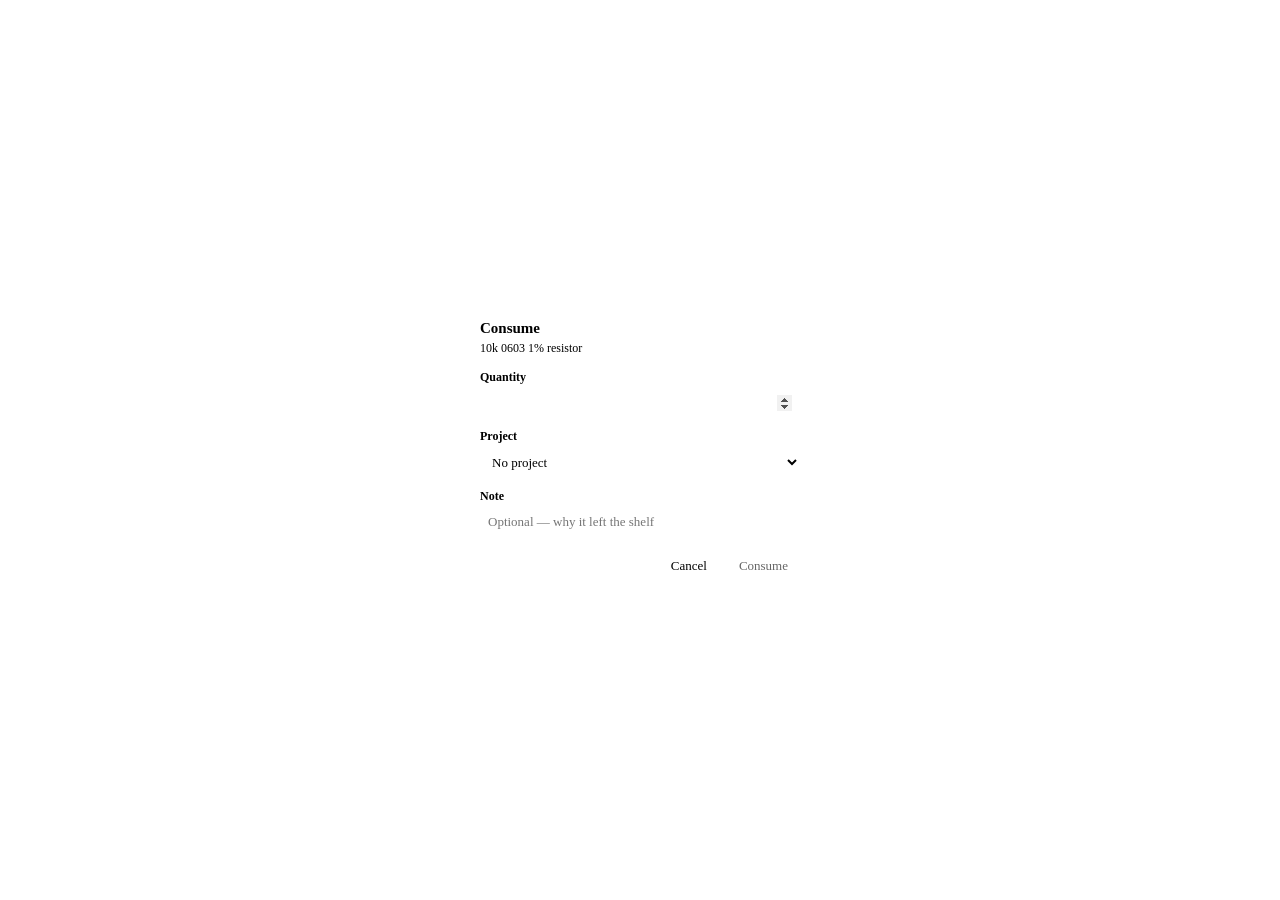
Scenario: QuickAction — continuous-unit part (real quantity_unit, not "each") › shows the preview and toast in the part's real unit ("m"), fetched via usePart
Type "2" into the number field labelled "Quantity" at (640, 403), box [480, 389, 800, 417]
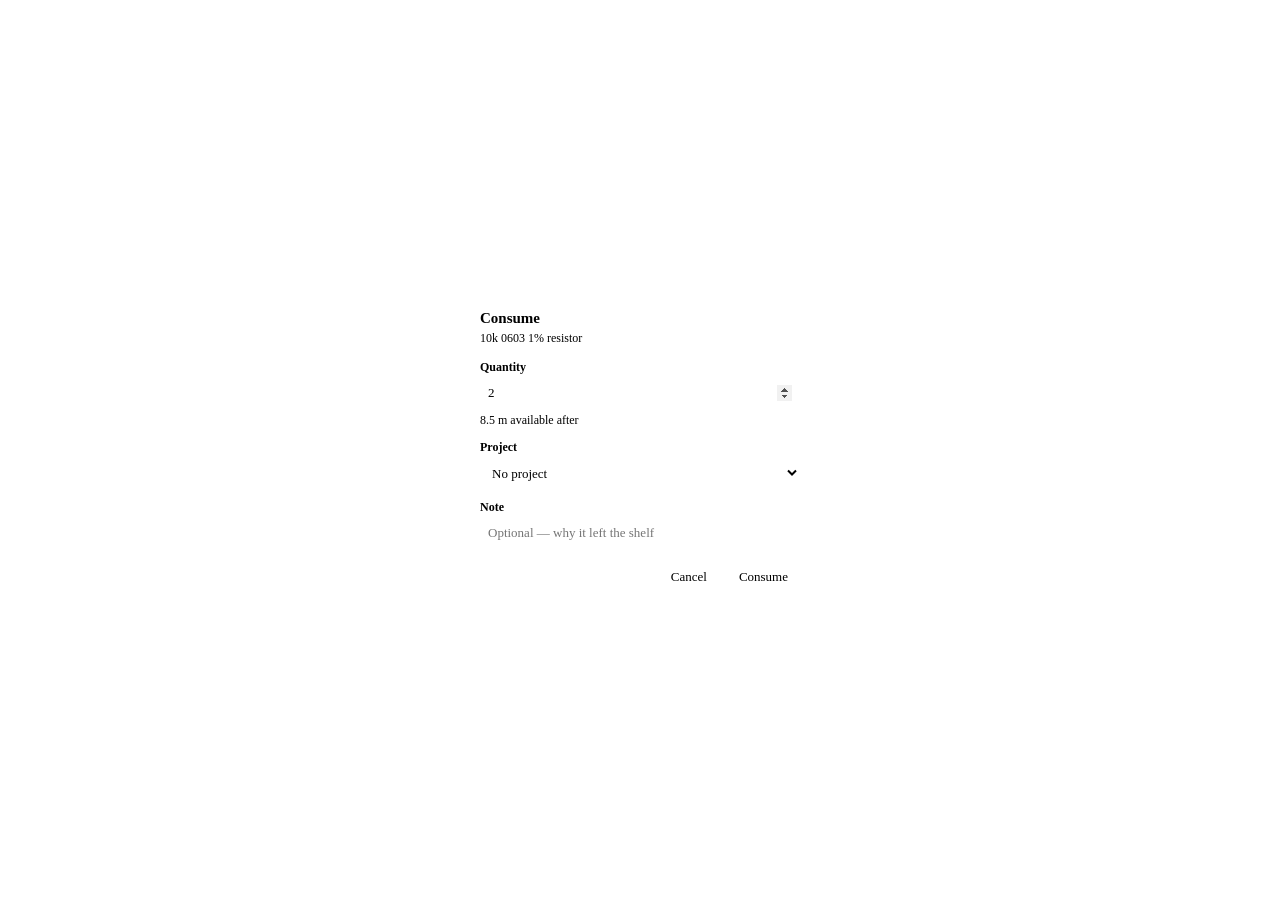
Expected: the text "8.5 m available after" is shown, [480, 412, 579, 426]
Click the button "Consume" at (763, 576), box [727, 562, 800, 590]
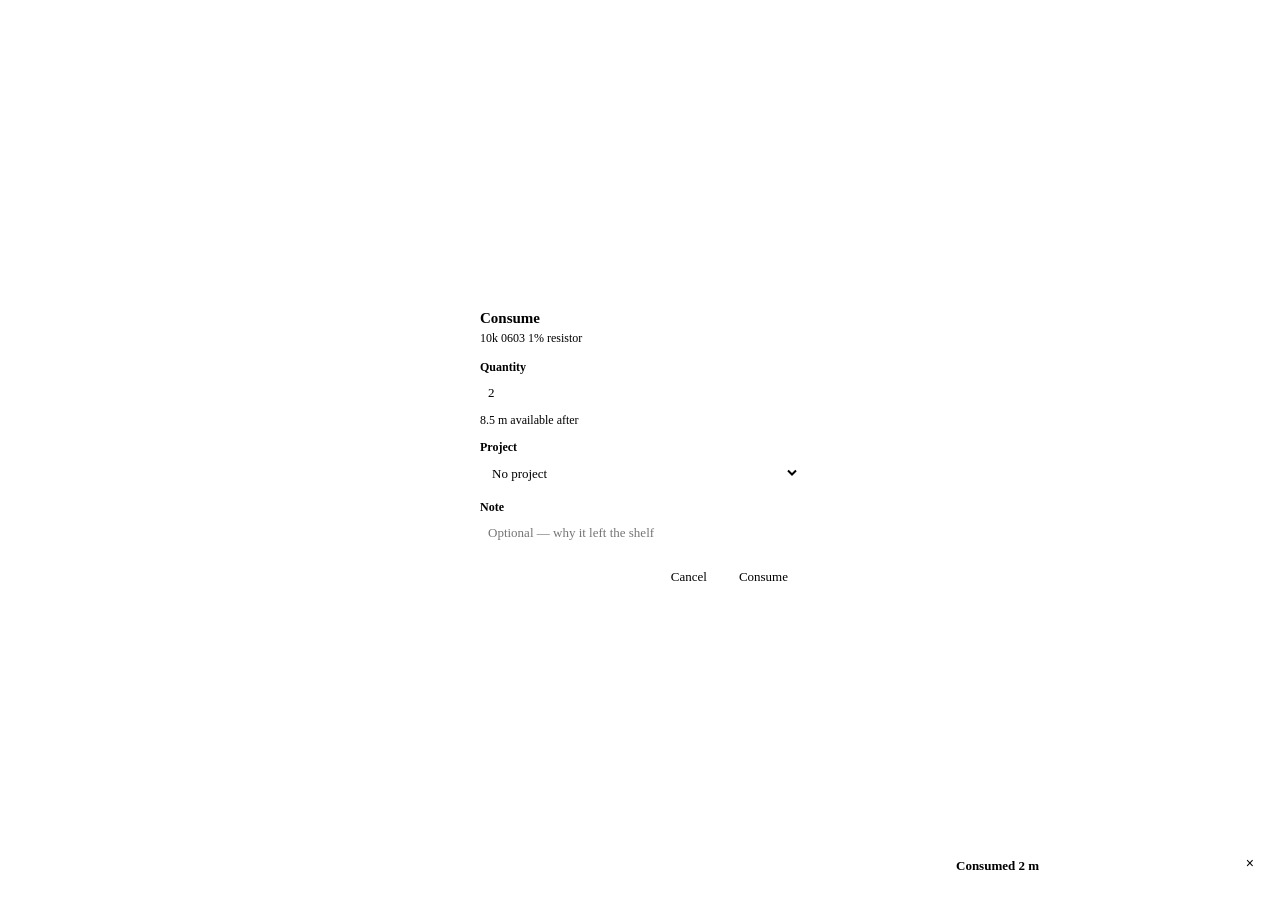
Expected: the text "Consumed 2 m" is shown, [956, 858, 1039, 873]
